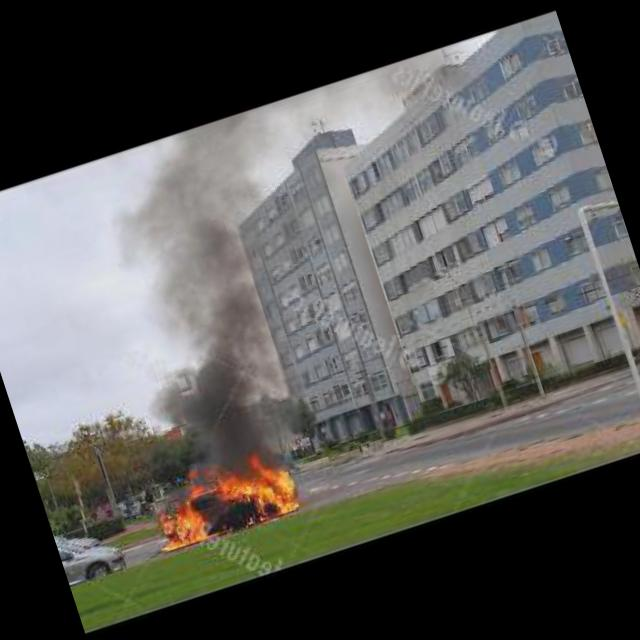fire: (136, 432, 320, 560)
smoke: (74, 108, 354, 469)
